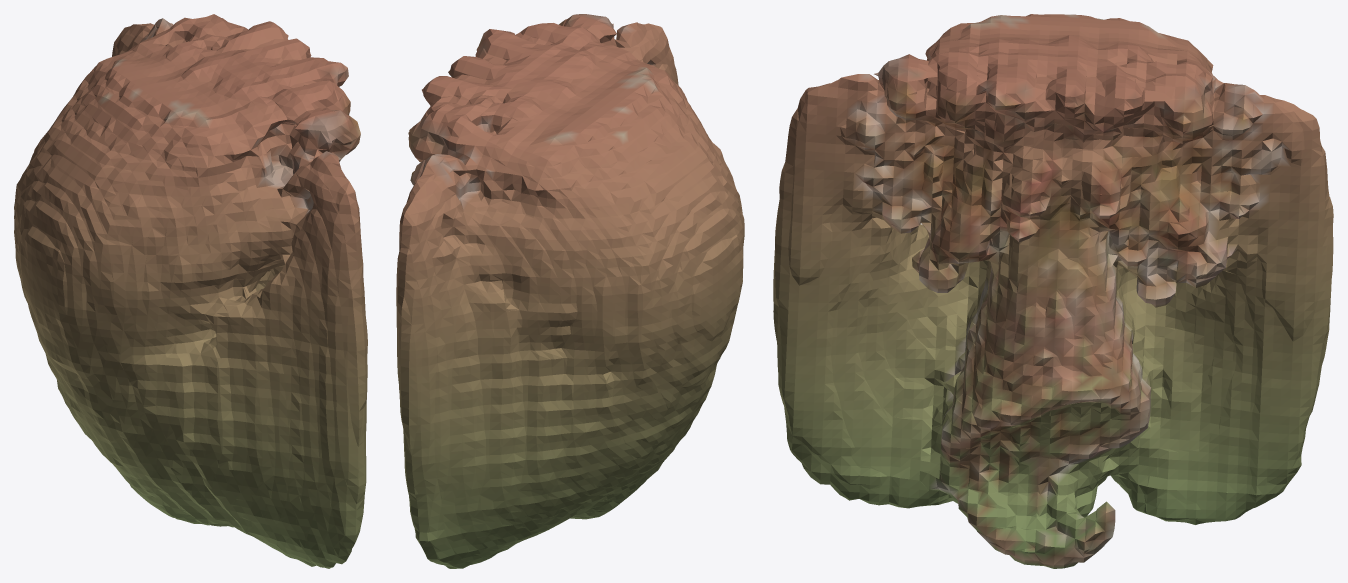
The model's file is pitcher_throne.glb.
3 renders of one model, left to right at view 1: azimuth 30°, elevation 25°; view 2: azimuth 150°, elevation 25°; view 3: azimuth 270°, elevation 25°, orthographic. The views are drawn at different scales.
Parts seen in each view (by area): view 1: world; view 2: world; view 3: world.
Part boxes in pixels (x1,y1,x2,y2): world: (14,14,367,568); world: (396,14,744,568); world: (773,14,1333,568).
Size of the model in its own units: 5.16 by 8 by 8.33.
